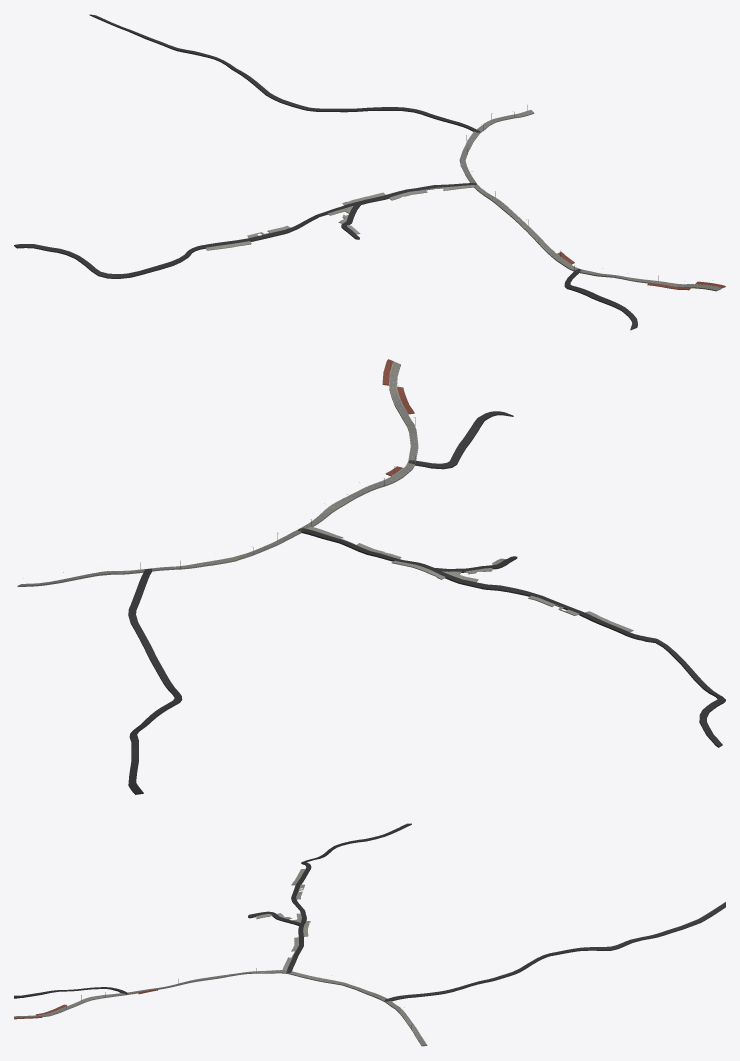
File: 15-27349-14882.5ebf4e08.glb
The picture shows the model from 3 angles, top to bottom: view 1: azimuth 30°, elevation 25°; view 2: azimuth 150°, elevation 25°; view 3: azimuth 270°, elevation 25°; orthographic projection. The views are drawn at different scales.
Size of the model in its own units: 653 by 54.87 by 881.
